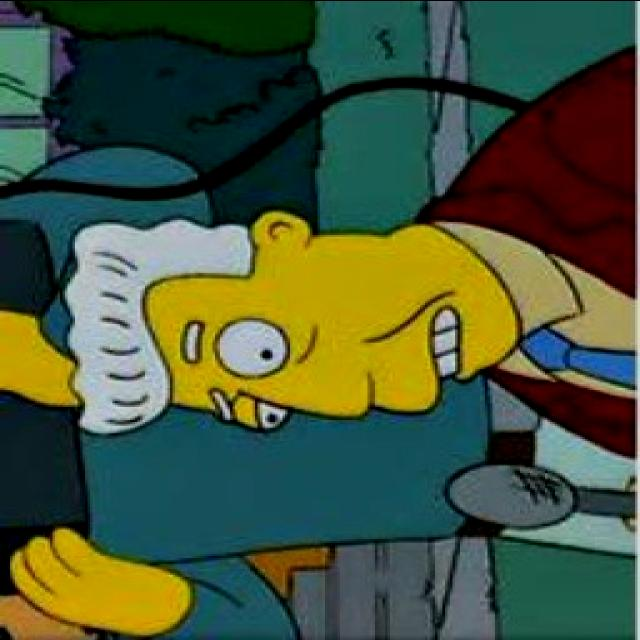Kent Brockman: (54, 204, 526, 438)
